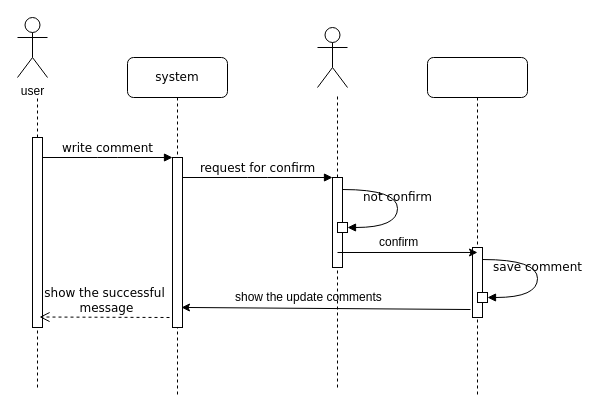
The diagram is 599 pixels wide and 415 high, and some of its shapes have lost their labels. Here are the shapes that lost their labels. From the top down, the centre of each, then its label:
the point at 332,57: admin
the point at 477,227: comment
